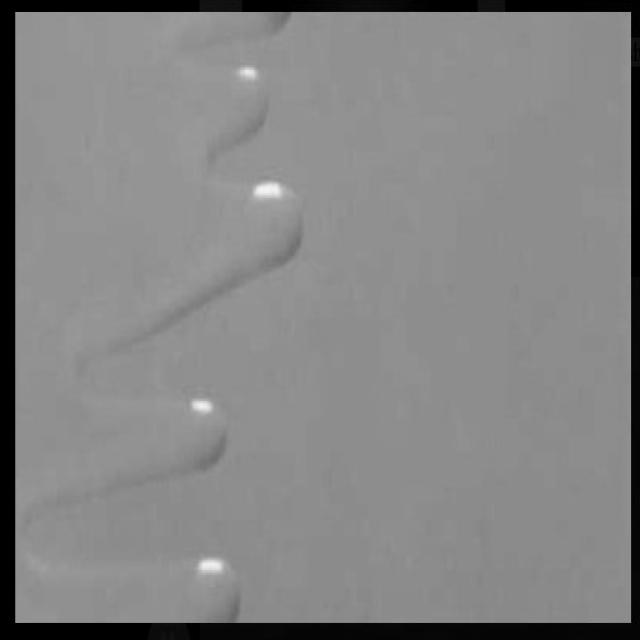paint drips: (22, 17, 302, 355), (18, 357, 258, 523), (21, 531, 258, 621)
